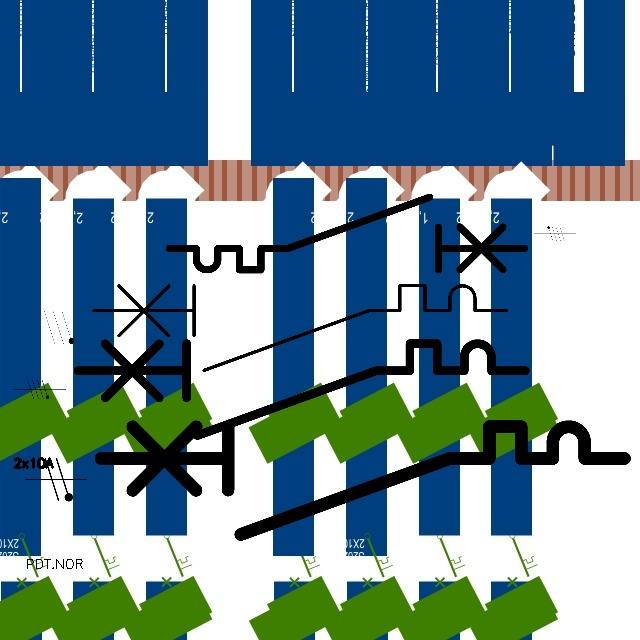interruptor_termomagnetico: (87, 413, 637, 547), (66, 332, 537, 447), (83, 275, 517, 381), (160, 188, 534, 279)
